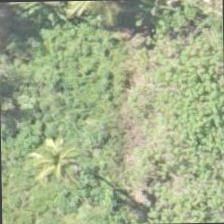Kelapa_Sawit: (15, 124, 107, 216)
